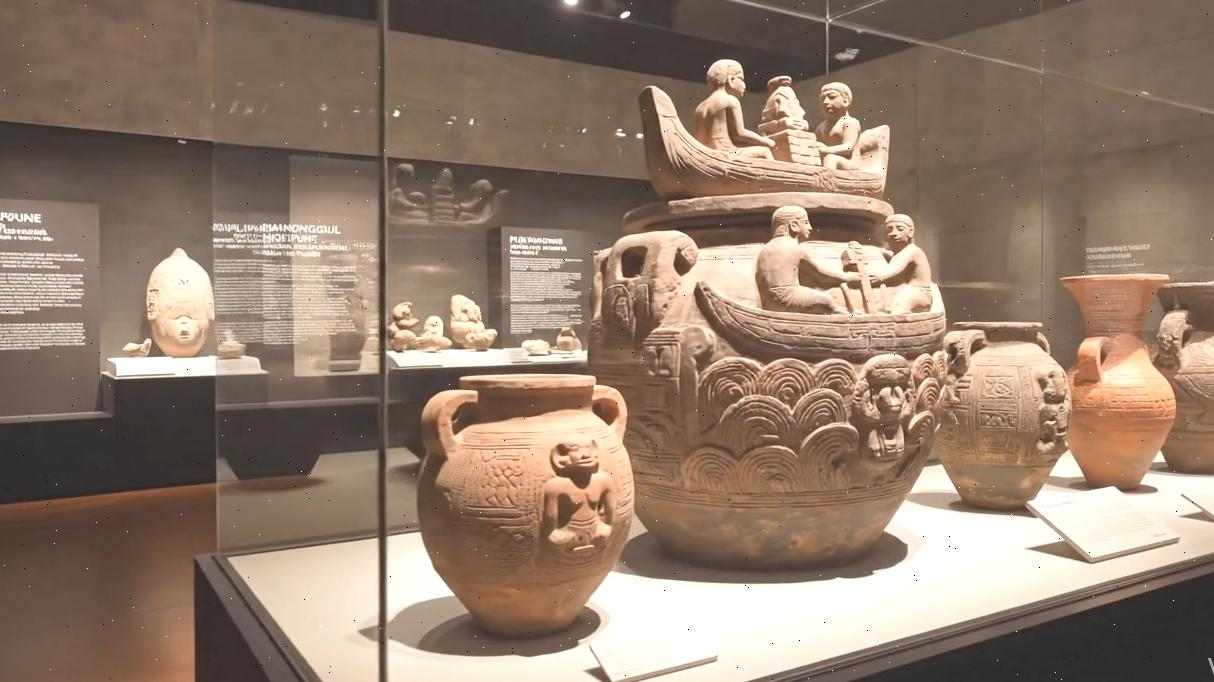manunggul_jar: (586, 54, 950, 608)
